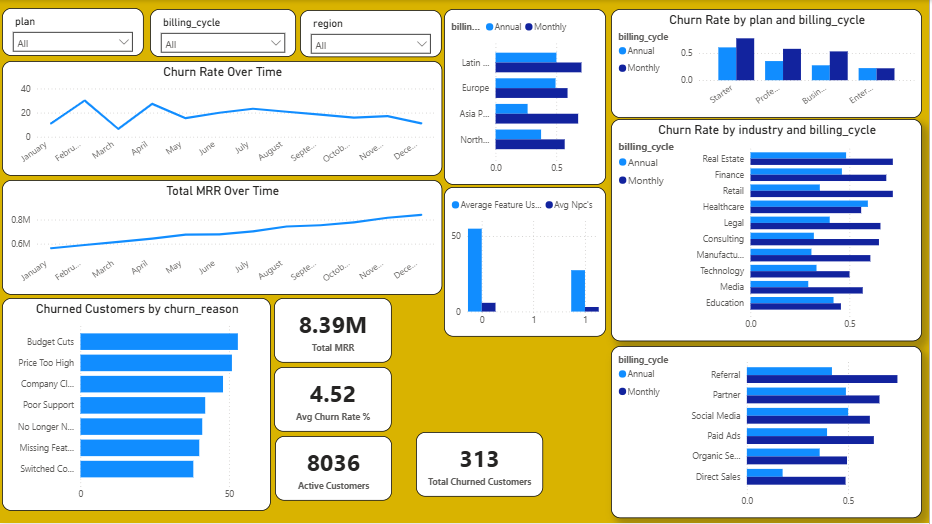

What the dashboard file says about the page in this screenshot:
{"tool":"powerbi","page":{"name":"SaaS Churn Analysis","canvas":[1280,720],"ordinal":0},"visuals":[{"type":"card","fields":{"Values":["monthly_revenue.Total MRR"]},"box":[2.8,12.4,128,89.5],"z":0},{"type":"card","fields":{"Values":["monthly_revenue.Avg Churn Rate %"]},"box":[295.9,12.4,134.9,89.5],"z":1},{"type":"card","fields":{"Values":["monthly_revenue.Active Customers"]},"box":[137.6,12.4,152.8,89.5],"z":2},{"type":"card","fields":{"Values":["Sum(monthly_revenue.churned_customers)"]},"box":[434.9,12.4,174.8,89.5],"z":3},{"type":"lineChart","title":"Churn Rate Over Time","fields":{"Category":["monthly_revenue.month.Variation.Date Hierarchy.Month"],"Y":["Sum(monthly_revenue.monthly_churn_rate_pct)"]},"box":[4.1,104.6,605.6,158.3],"z":4},{"type":"lineChart","title":"Total MRR Over Time","fields":{"Category":["monthly_revenue.month.Variation.Date Hierarchy.Month"],"Y":["Sum(monthly_revenue.total_mrr)"]},"box":[4.1,267,605.6,158.3],"z":5},{"type":"clusteredColumnChart","fields":{"Category":["subscriptions.plan"],"Series":["subscriptions.billing_cycle"],"Y":["subscriptions.Churn Rate"]},"box":[842.3,12.4,428,150],"z":6},{"type":"clusteredBarChart","fields":{"Series":["subscriptions.billing_cycle"],"Y":["subscriptions.Churn Rate"],"Category":["subscriptions.industry"]},"box":[842.3,163.8,428,305.5],"z":7},{"type":"clusteredBarChart","fields":{"Series":["subscriptions.billing_cycle"],"Y":["subscriptions.Churn Rate"],"Category":["subscriptions.region"]},"box":[613.8,12.4,223,242.2],"z":8},{"type":"clusteredBarChart","fields":{"Series":["subscriptions.billing_cycle"],"Y":["subscriptions.Churn Rate"],"Category":["subscriptions.acquisition_channel"]},"box":[842.3,473.5,428,236.7],"z":9},{"type":"clusteredColumnChart","fields":{"Category":["subscriptions.Is Churned"],"Y":["subscriptions.Average Feature Usage","subscriptions.Avg Npc's"]},"box":[613.8,256,223,264.3],"z":10},{"type":"clusteredBarChart","fields":{"Category":["subscriptions.churn_reason"],"Y":["subscriptions.Churned Customers"]},"box":[4.1,429.4,605.6,282.2],"z":11},{"type":"slicer","fields":{"Values":["subscriptions.plan"]},"box":[615.2,652.4,223,59.2],"z":12},{"type":"slicer","fields":{"Values":["subscriptions.billing_cycle"]},"box":[615.2,587.7,223,61.9],"z":13},{"type":"slicer","fields":{"Values":["subscriptions.region"]},"box":[613.8,521.6,223,63.3],"z":14}]}

Visuals, with their boxes in screenshot pixels (x1, y1, x2, y2), scaled from the page's 1280x720 canvas onto the 932x524 screenshot:
card - monthly_revenue.Total MRR: <box>2,9,95,74</box>
card - monthly_revenue.Avg Churn Rate %: <box>215,9,314,74</box>
card - monthly_revenue.Active Customers: <box>100,9,211,74</box>
card - Sum(monthly_revenue.churned_customers): <box>317,9,444,74</box>
"Churn Rate Over Time" lineChart: <box>3,76,444,191</box>
"Total MRR Over Time" lineChart: <box>3,194,444,310</box>
clusteredColumnChart - subscriptions.plan x subscriptions.billing_cycle: <box>613,9,925,118</box>
clusteredBarChart - subscriptions.billing_cycle x subscriptions.Churn Rate: <box>613,119,925,342</box>
clusteredBarChart - subscriptions.billing_cycle x subscriptions.Churn Rate: <box>447,9,609,185</box>
clusteredBarChart - subscriptions.billing_cycle x subscriptions.Churn Rate: <box>613,345,925,517</box>
clusteredColumnChart - subscriptions.Is Churned x subscriptions.Average Feature Usage: <box>447,186,609,379</box>
clusteredBarChart - subscriptions.churn_reason x subscriptions.Churned Customers: <box>3,313,444,518</box>
slicer - subscriptions.plan: <box>448,475,610,518</box>
slicer - subscriptions.billing_cycle: <box>448,428,610,473</box>
slicer - subscriptions.region: <box>447,380,609,426</box>
